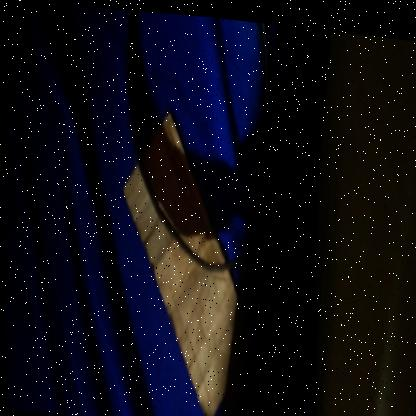five-back-vef: (113, 103, 245, 416)
